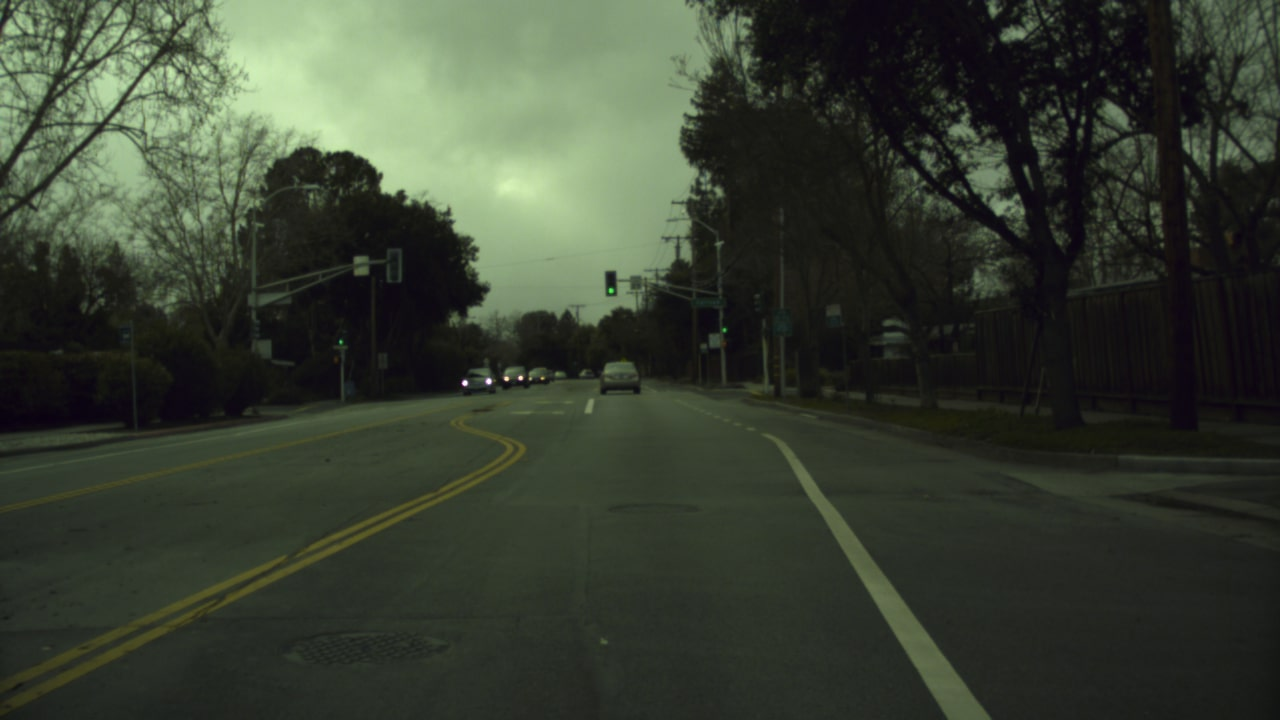signal: (604, 270, 617, 297), (334, 333, 345, 350), (719, 322, 732, 336)
